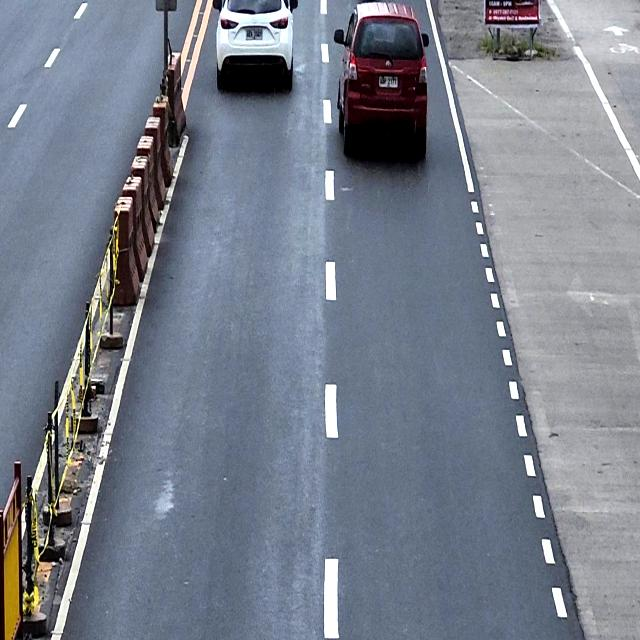Car: (331, 0, 432, 165), (213, 0, 300, 97)
License-Plate: (378, 74, 398, 88), (245, 26, 264, 40)
